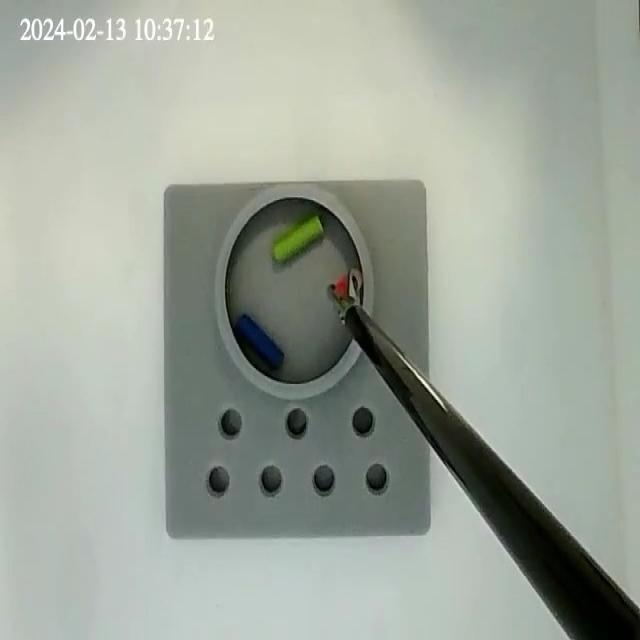EmptyHole: (351, 402, 376, 442), (364, 460, 390, 496), (218, 405, 242, 440), (283, 406, 309, 438), (312, 461, 336, 495), (258, 464, 284, 495), (207, 463, 231, 495)
